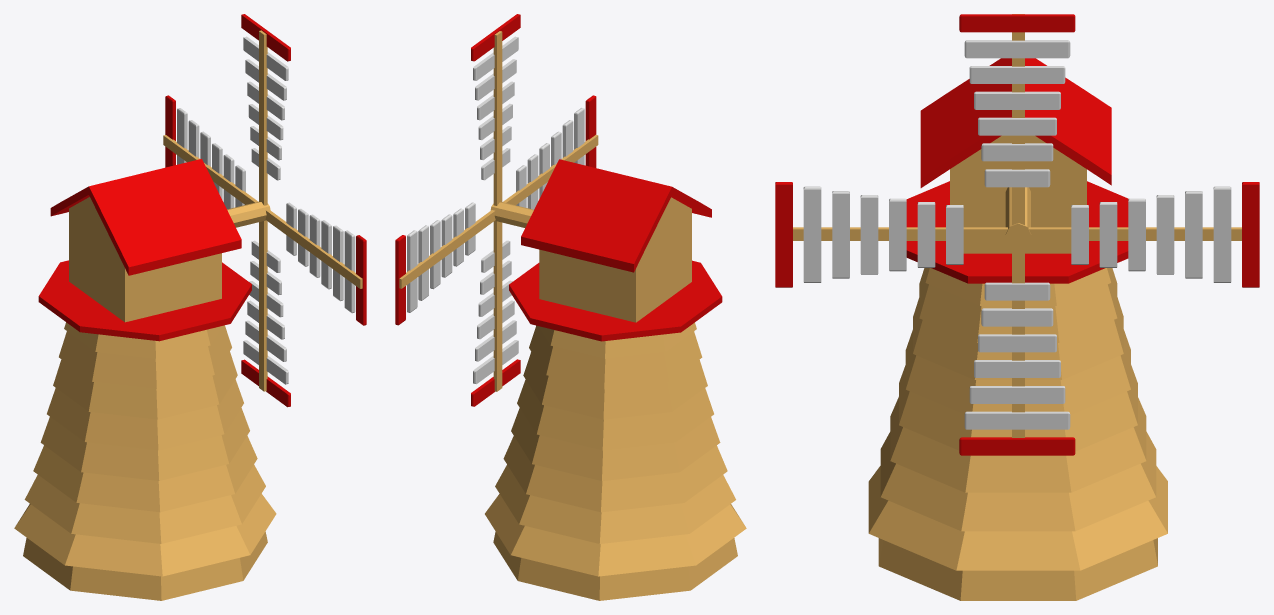
The model's file is windmill.fbx.
3 views of the same model, side by side, from view 1: azimuth 30°, elevation 25°; view 2: azimuth 150°, elevation 25°; view 3: azimuth 270°, elevation 25° (orthographic). The views are drawn at different scales.
Parts seen in each view (by area): view 1: Cylinder, Cylinder.001; view 2: Cylinder, Cylinder.001; view 3: Cylinder, Cylinder.001.
Boxes of the visible parts, left/top/right/bottom form: Cylinder: left=14, top=159, right=276, bottom=600; Cylinder.001: left=163, top=14, right=366, bottom=407; Cylinder: left=485, top=159, right=746, bottom=600; Cylinder.001: left=395, top=14, right=598, bottom=406; Cylinder: left=868, top=58, right=1167, bottom=600; Cylinder.001: left=775, top=14, right=1259, bottom=455.
Size of the model in its own units: 566 by 1159 by 851.
